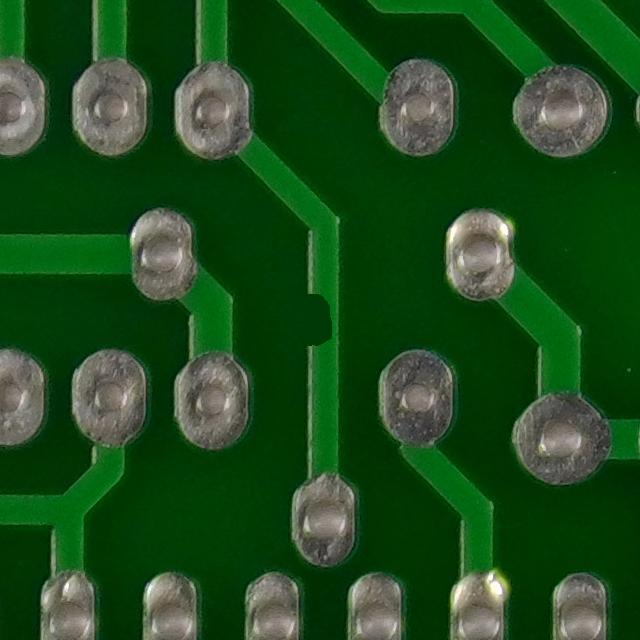mouse_bite: (287, 278, 354, 363)
